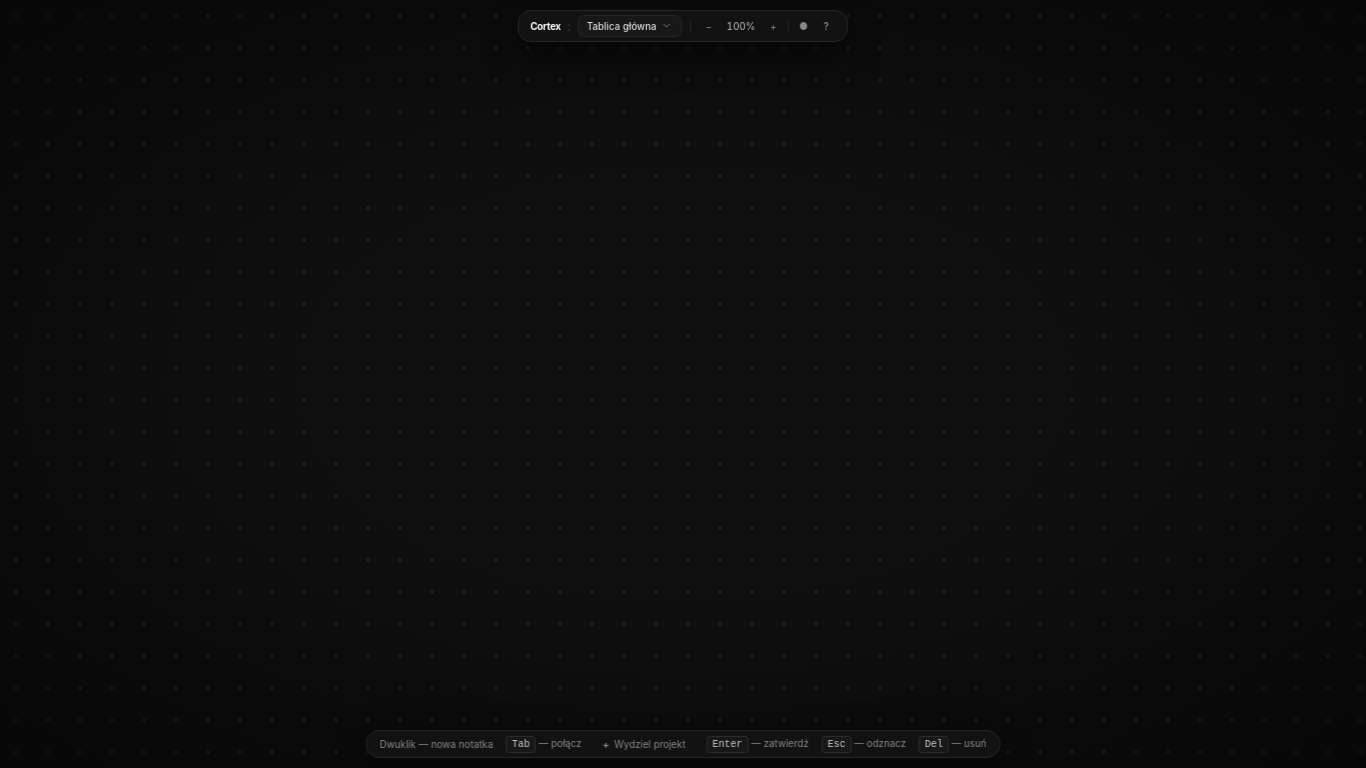
Test case: Macro Canvas - Cluster, Bracket and Project Linking › connects bracket to cluster on bracket click in linking mode
Click the button with test id "project-switcher-button" at (630, 26), box [578,15,682,37]
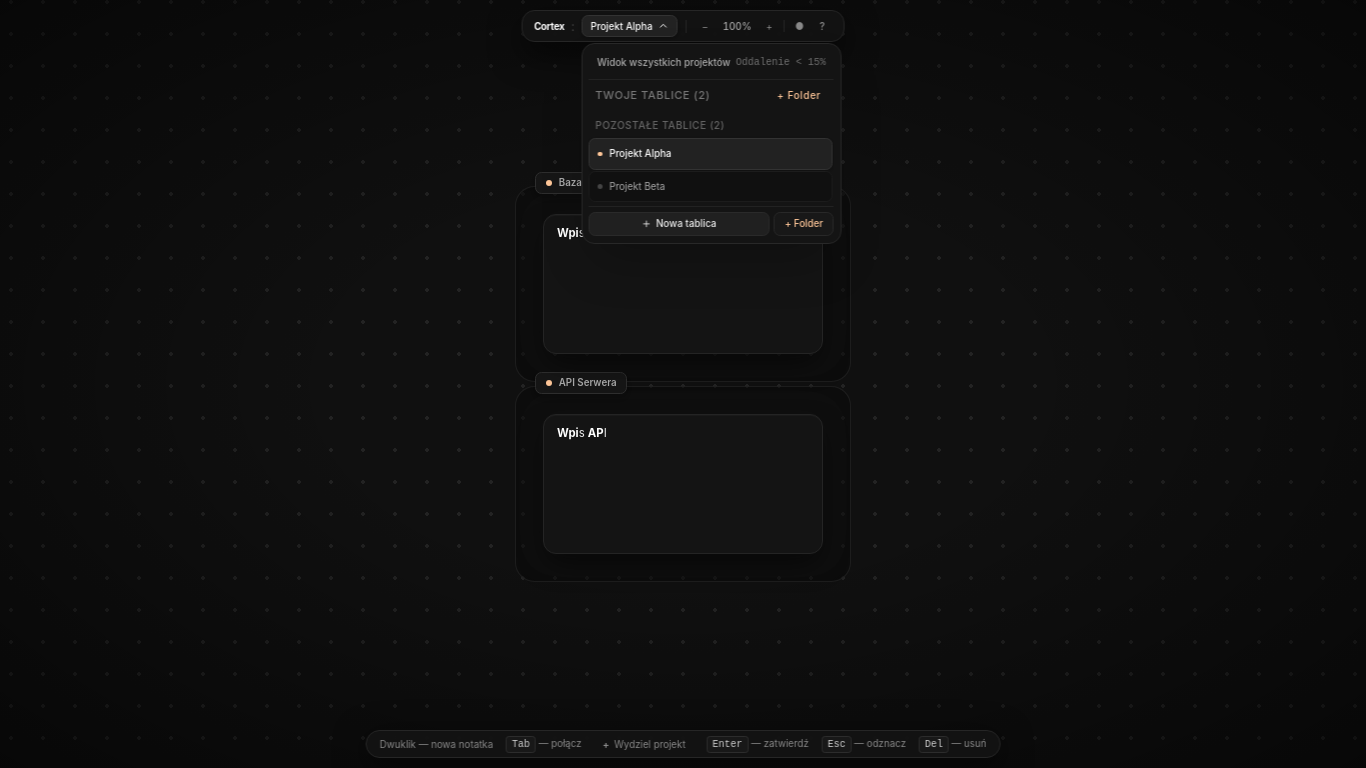
Click the button with test id "macro-view-toggle-btn" at (711, 62), box [589,51,834,74]
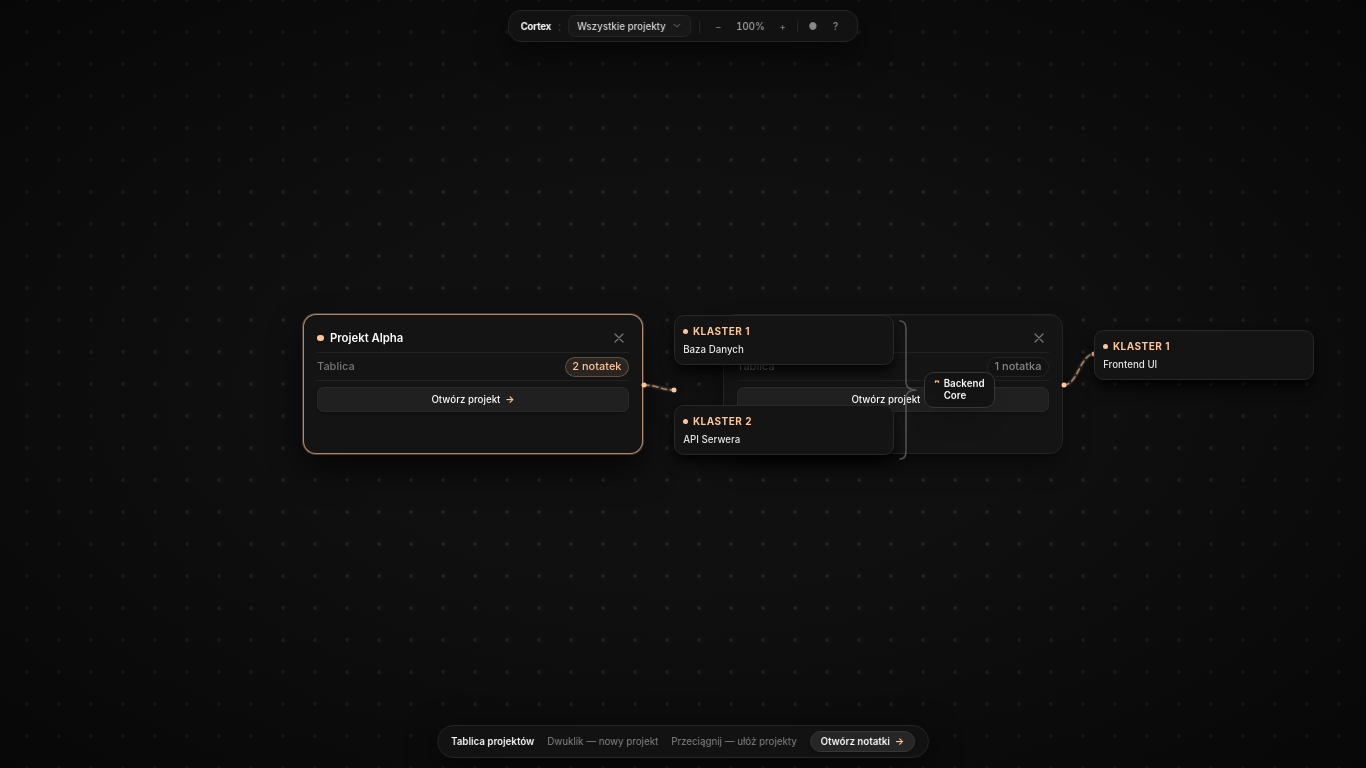
Expected: the text "Backend Core" is shown, [944,378,984,401]
Click the text "Backend Core" at (960, 390), box [924,372,995,408]
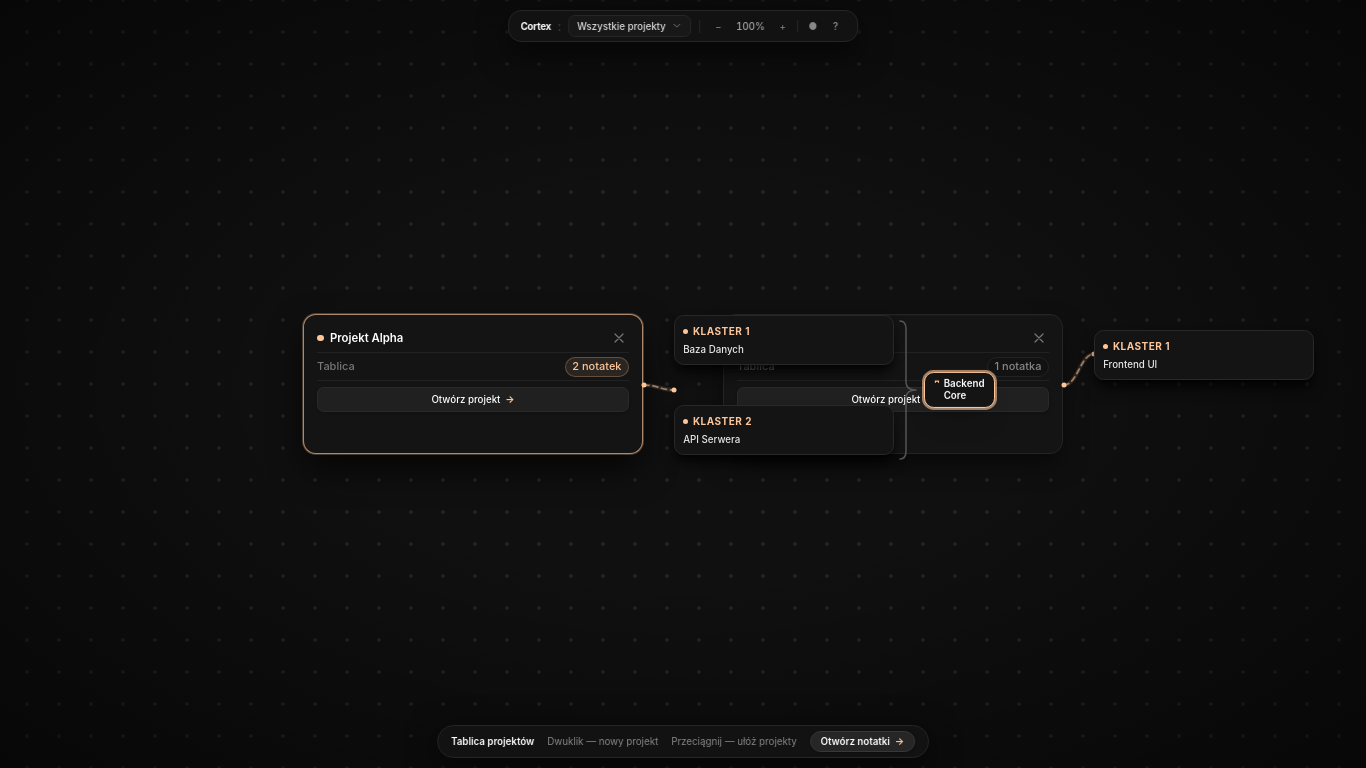
Press Tab
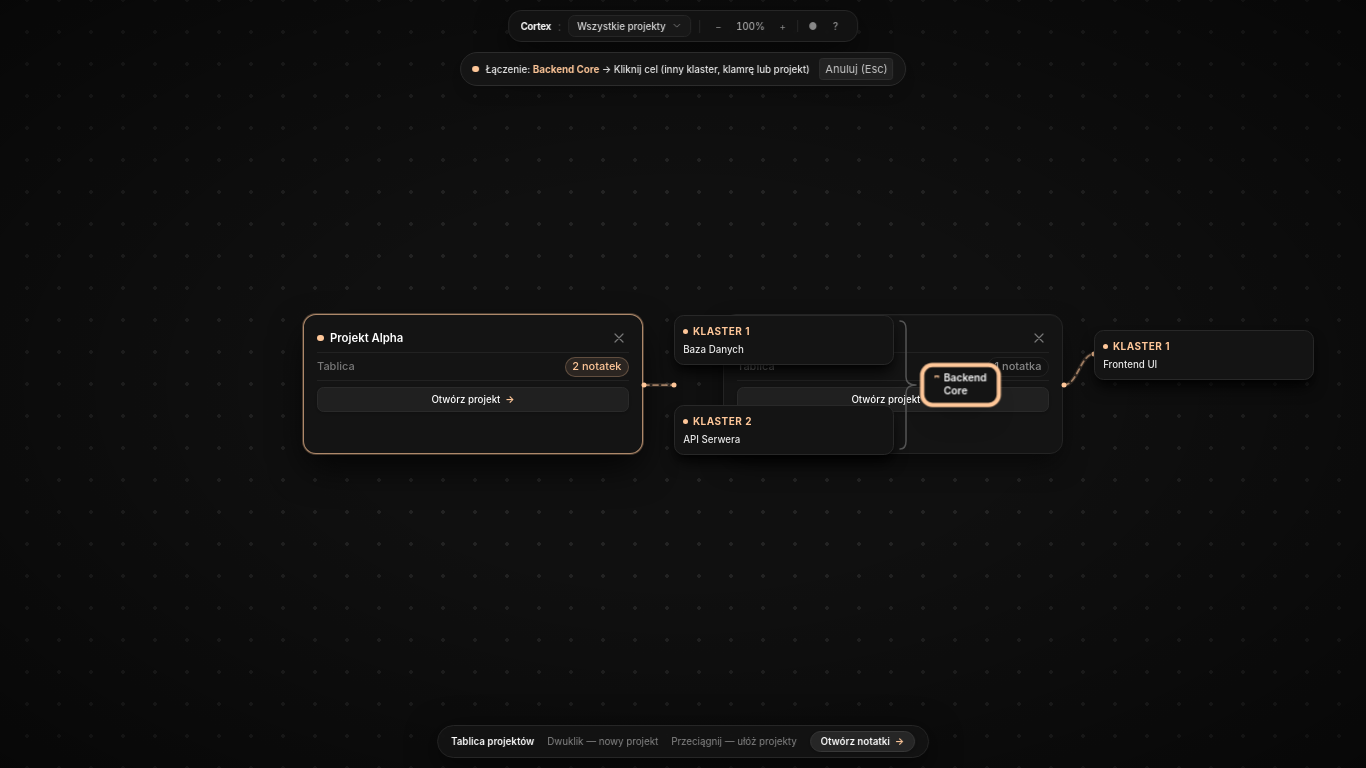
Expected: the element with test id "macro-cluster-linking-banner" shows "Backend Core", [533,64,599,74]
Click the element with test id "macro-cluster-satellite-proj-2-node-2" at (1204, 355), box [1094,330,1314,380]
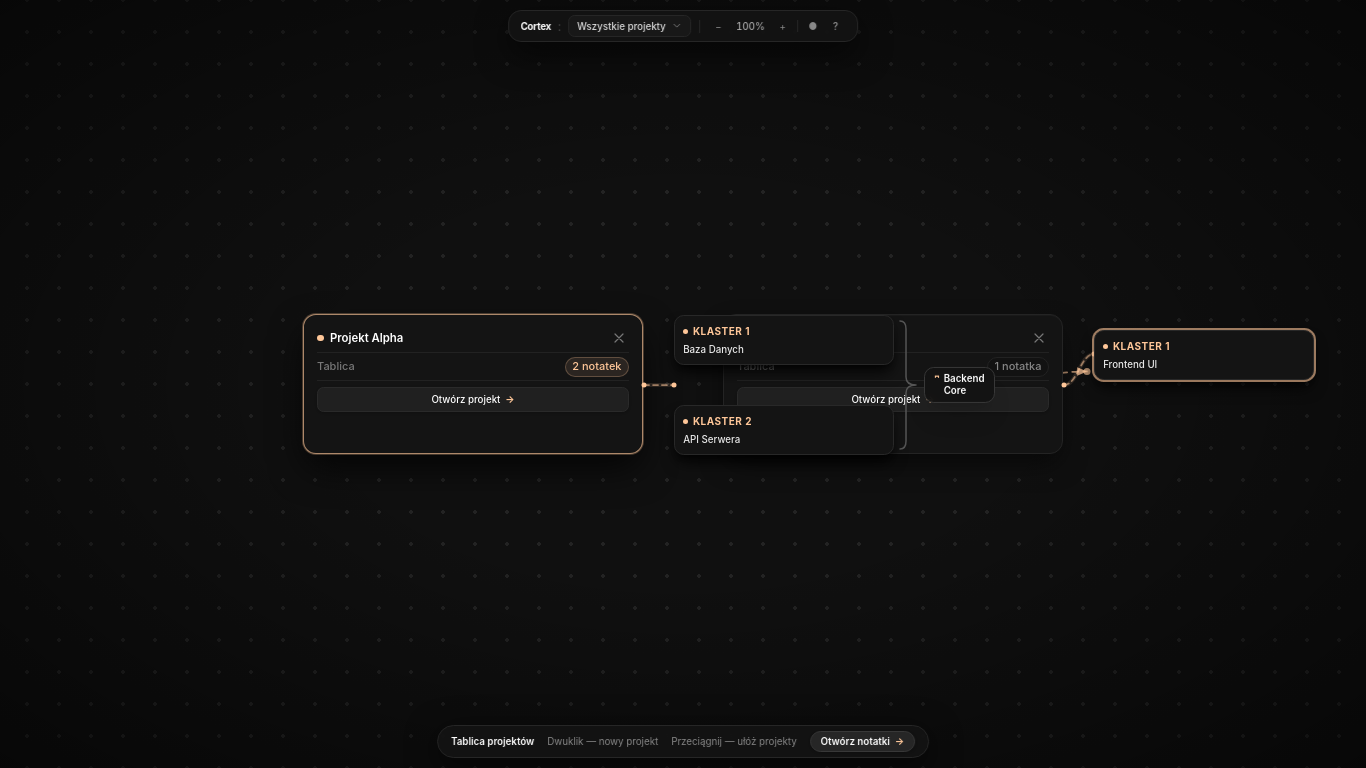
Expected: the element with test id "macro-cluster-linking-banner" is gone
